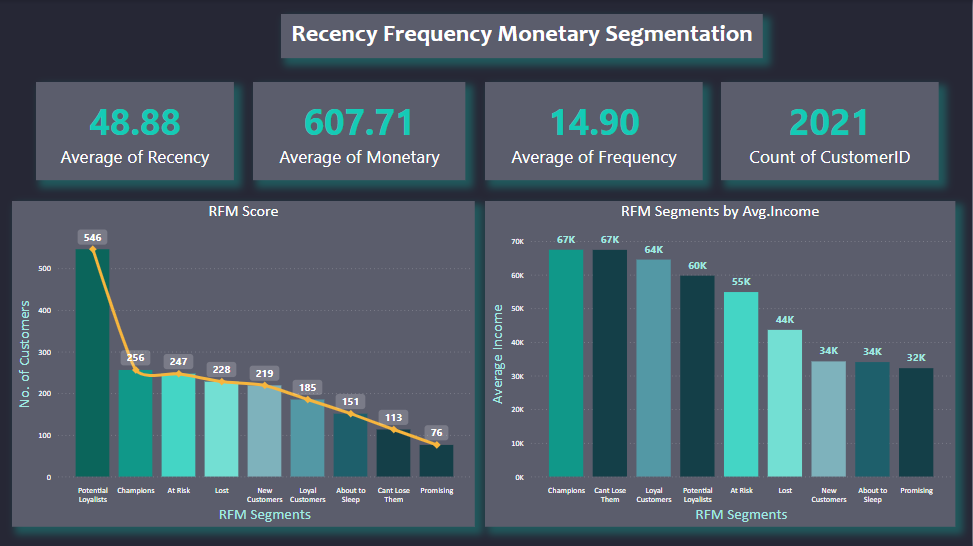

Layout of this report page (visuals, bound fields, positions):
{"tool":"powerbi","page":{"name":"RFM","canvas":[1280,720],"ordinal":0},"visuals":[{"type":"textbox","box":[371.6,17.9,633.1,57.8],"z":0},{"type":"card","fields":{"Values":["Avg(rfm.Recency)"]},"box":[49.5,107.4,260.1,129.4],"z":1000},{"type":"card","fields":{"Values":["Avg(rfm.Monetary)"]},"box":[334.5,107.4,279.4,129.4],"z":2000},{"type":"card","fields":{"Values":["Avg(rfm.Frequency)"]},"box":[640,107.4,286.3,129.4],"z":3000},{"type":"lineClusteredColumnComboChart","title":"RFM Score","fields":{"Category":["rfm.Segment"],"Y":["CountNonNull(rfm.Recency)"],"Y2":["CountNonNull(rfm.Frequency)"]},"box":[17.9,264.3,608.3,428],"z":4000},{"type":"clusteredColumnChart","title":"RFM Segments by Avg.Income ","fields":{"Category":["rfm.Segment"],"Y":["Median(df.Income)"]},"box":[640,264.3,618,428],"z":5000},{"type":"card","fields":{"Values":["CountNonNull(df.CustomerID)"]},"box":[949.7,107.4,286.3,129.4],"z":6000}]}

Visuals, with their boxes in screenshot pixels (x1, y1, x2, y2), scaled from the page's 1280x720 canvas onto the 973x546 screenshot:
textbox: pyautogui.locateOnScreen(282, 14, 764, 57)
card - Avg(rfm.Recency): pyautogui.locateOnScreen(38, 81, 235, 180)
card - Avg(rfm.Monetary): pyautogui.locateOnScreen(254, 81, 467, 180)
card - Avg(rfm.Frequency): pyautogui.locateOnScreen(486, 81, 704, 180)
"RFM Score" lineClusteredColumnComboChart: pyautogui.locateOnScreen(14, 200, 476, 525)
"RFM Segments by Avg.Income " clusteredColumnChart: pyautogui.locateOnScreen(486, 200, 956, 525)
card - CountNonNull(df.CustomerID): pyautogui.locateOnScreen(722, 81, 940, 180)
